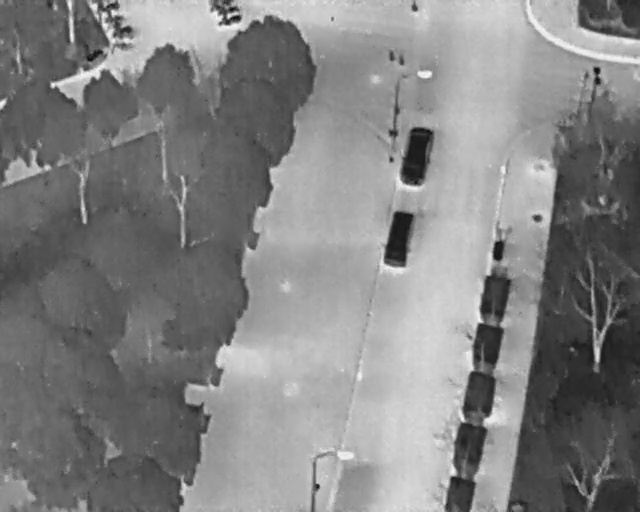Bicycle: (98, 9, 126, 28), (214, 12, 245, 28), (109, 37, 135, 56), (108, 23, 134, 40), (213, 4, 239, 18), (94, 0, 120, 12), (210, 2, 226, 12), (209, 0, 229, 6)
Car: (396, 120, 437, 188), (379, 204, 419, 271)
